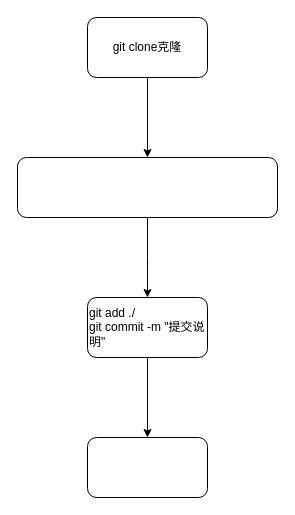
Some shapes in this 295 by 515 pixel diagram are drawn without their labels. The shapes that lost their labels are listed below. From the top down, each one's box as (x1, y1, x2, y2) in pixels, then its label:
(16, 156, 278, 218): git fetch[remote name][branch name] 抓取 git pull[remotename][ branch name] 拉取
(86, 436, 208, 498): git push 推送到远程仓库
